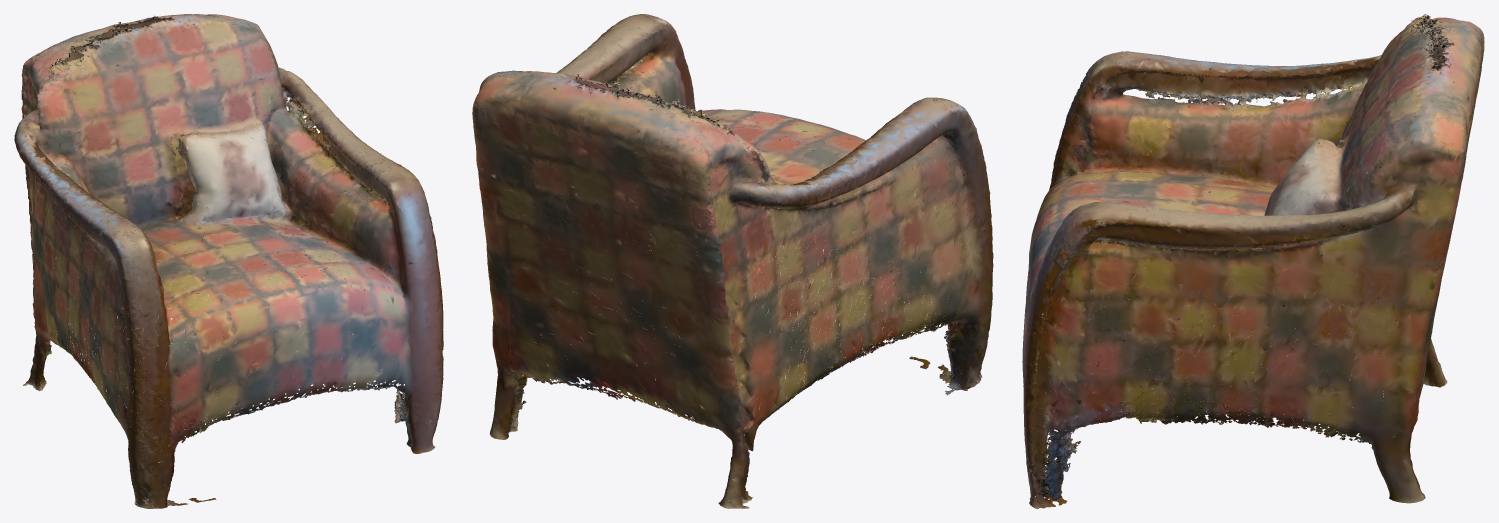
The model's file is obj_chair_scanned_with_lookout_ec88c3.glb.
The picture shows the model from 3 angles, left to right: view 1: azimuth 30°, elevation 25°; view 2: azimuth 150°, elevation 25°; view 3: azimuth 270°, elevation 25°; orthographic projection. The views are drawn at different scales.
Visible parts, largest first — view 1: obj_chair_scanned_with_lookout_ec88c3; view 2: obj_chair_scanned_with_lookout_ec88c3; view 3: obj_chair_scanned_with_lookout_ec88c3.
Boxes of the visible parts, box(x1,y1,x2,y2) form: obj_chair_scanned_with_lookout_ec88c3: box(14, 14, 443, 508); obj_chair_scanned_with_lookout_ec88c3: box(472, 14, 993, 508); obj_chair_scanned_with_lookout_ec88c3: box(1022, 14, 1484, 508).
Size of the model in its own units: 0.8141 by 0.8506 by 0.9062.
